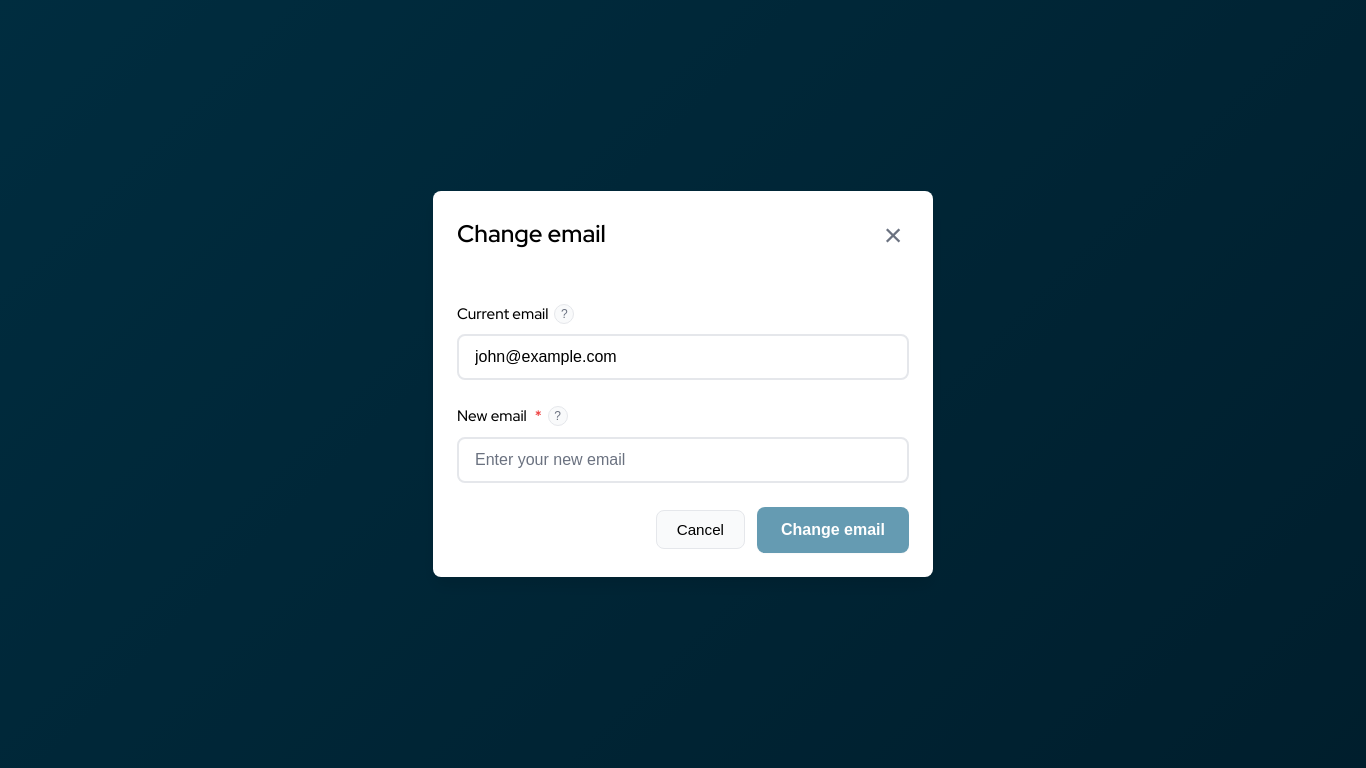
Test: ChangeEmailModal › should close error message when close button is clicked
This screenshot has width=1366, height=768.
In the field with placeholder "Enter your new email": (683, 460) [457,436,909,482], type "newemail@example.com"
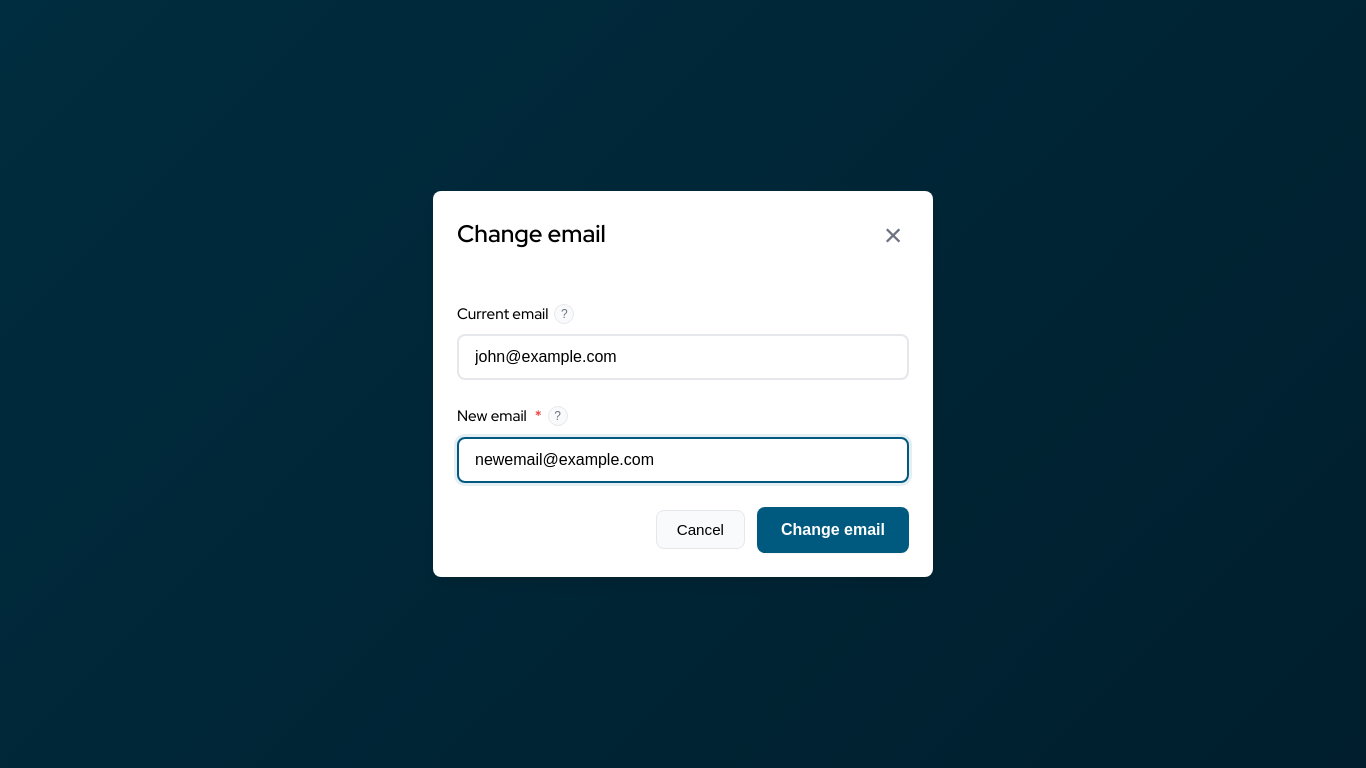
Click the button "Change email": (833, 530) [757,506,909,552]
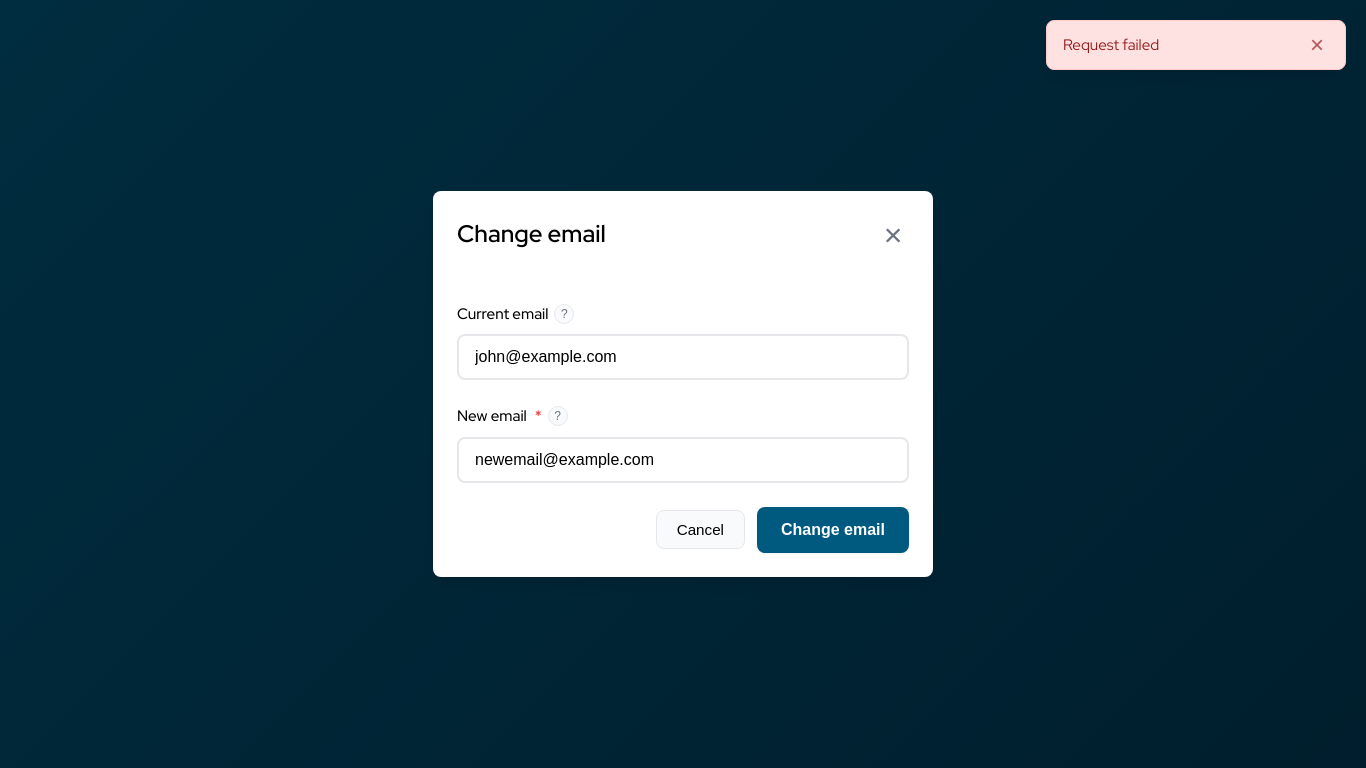
Expected: the text "Request failed" is shown, [1063,35,1159,55]
Click the button named "close": (1317, 45) [1305,33,1329,57]
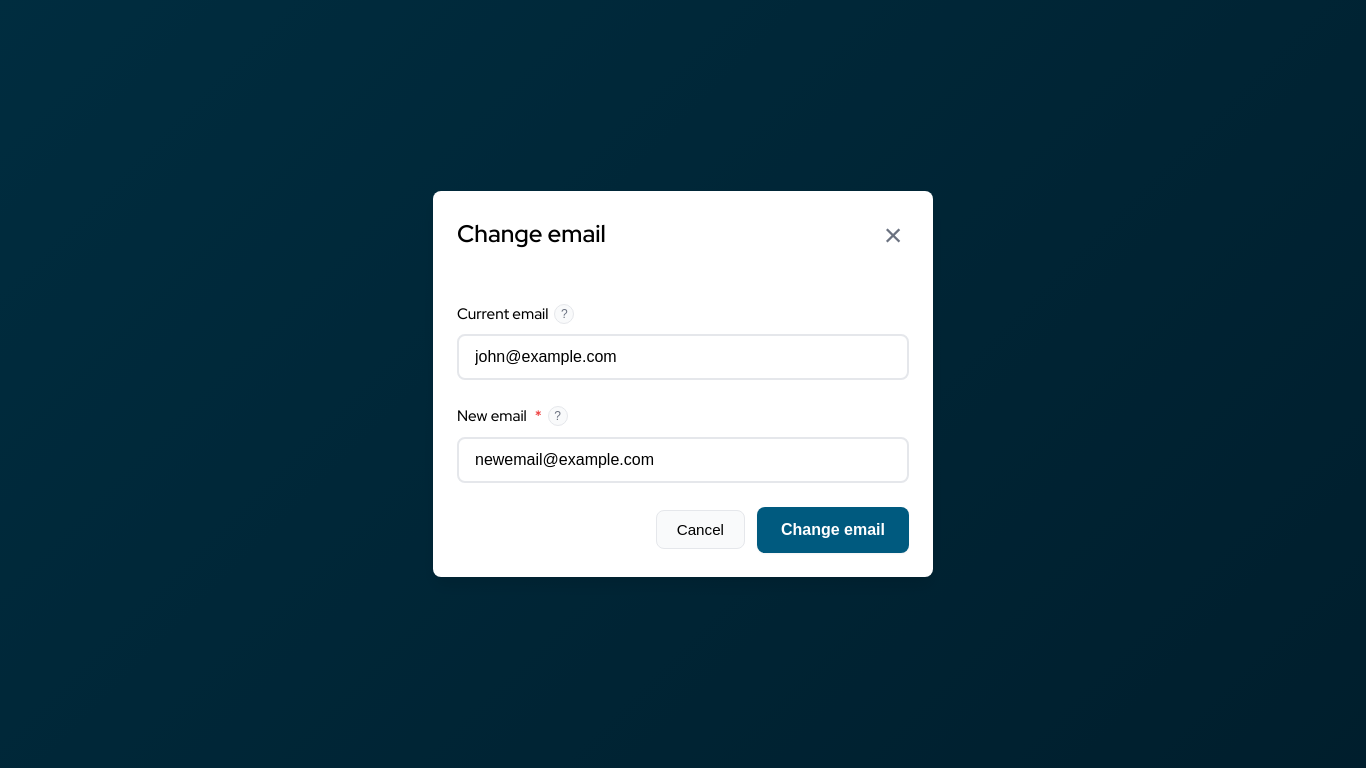
Expected: the text "Request failed" is gone
